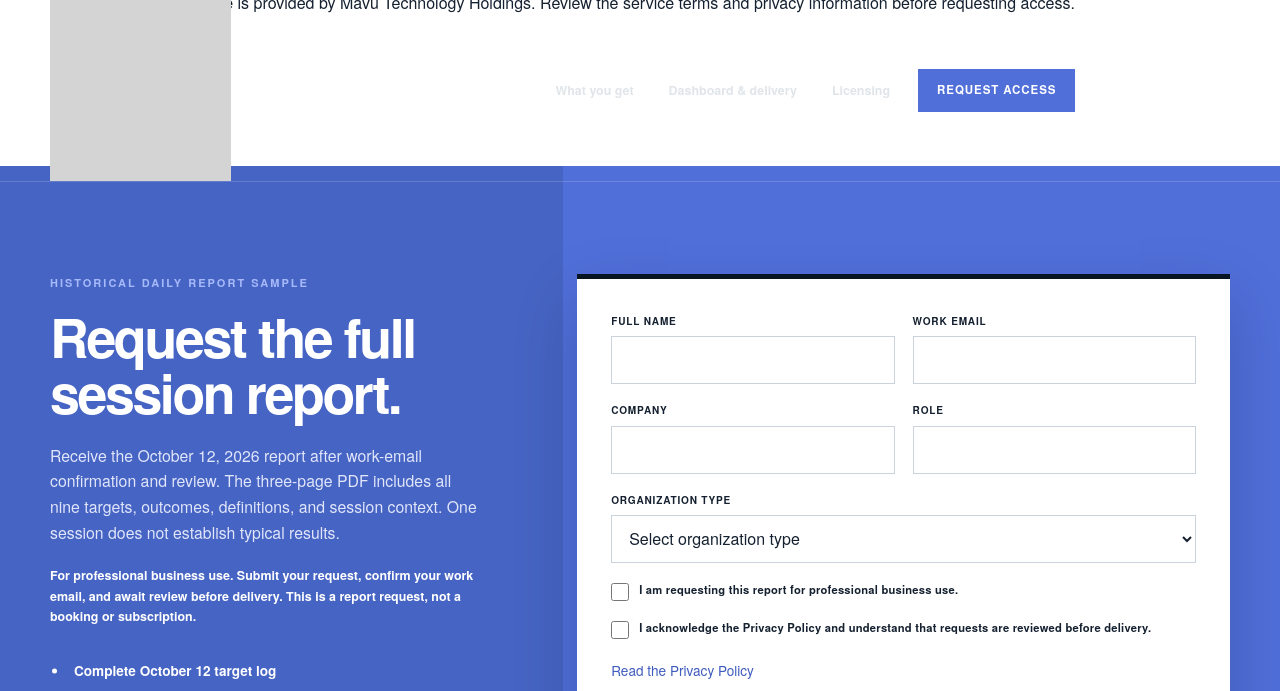
Test: public evaluation journey › does not invite a duplicate request after a network timeout
(page scrolled)
Type "Test Analyst" into the field labelled "Full name" at coordinates (753, 360), box [611,336,895,384]
Type "analyst@example.com" into the field labelled "Work email" at coordinates (1054, 360), box [913,336,1196,384]
Type "Example Desk" into the field labelled "Company" at coordinates (753, 450), box [611,426,895,474]
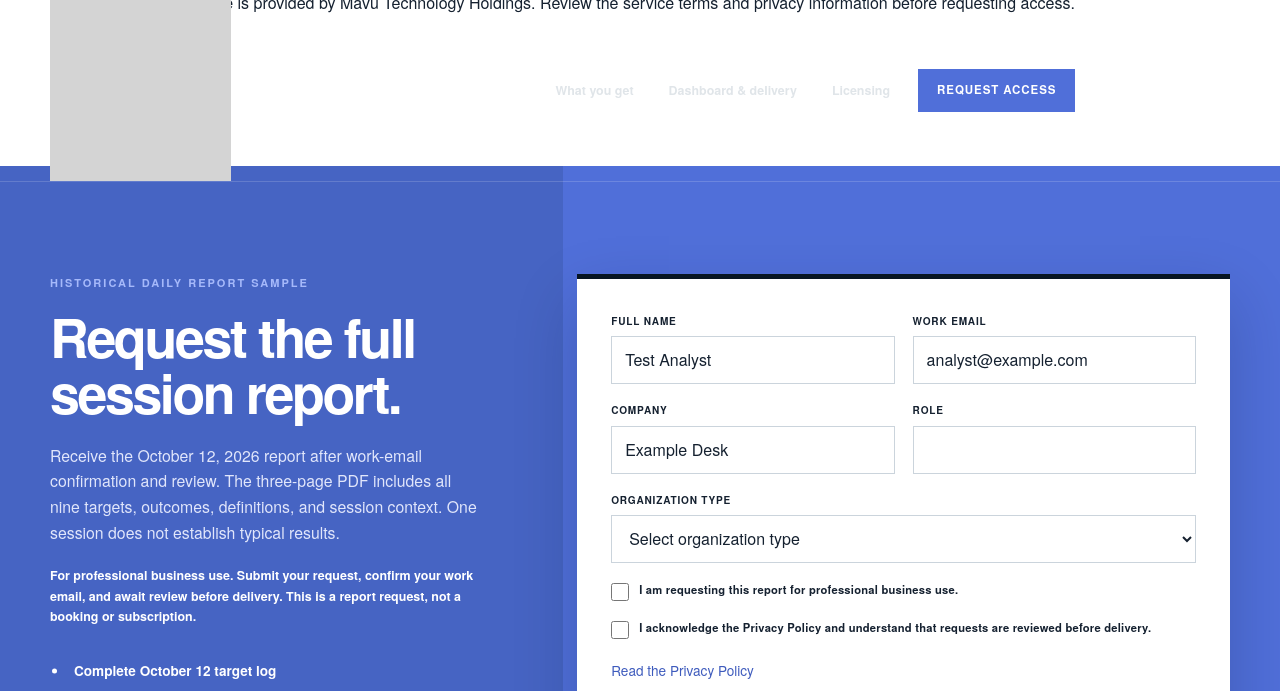
Type "Research Lead" into the field labelled "Role" at coordinates (1054, 450), box [913,426,1196,474]
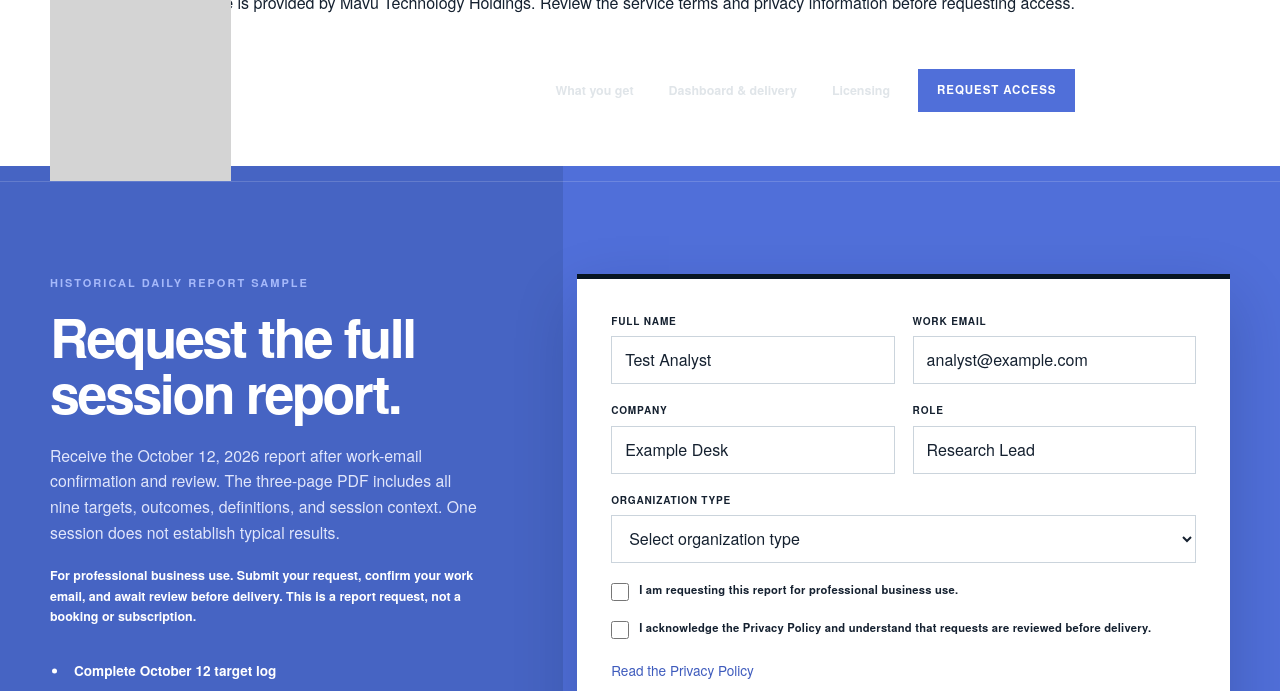
Select "Proprietary trading firm" in the dropdown labelled "Organization type" at coordinates (904, 539), box [611,515,1196,563]
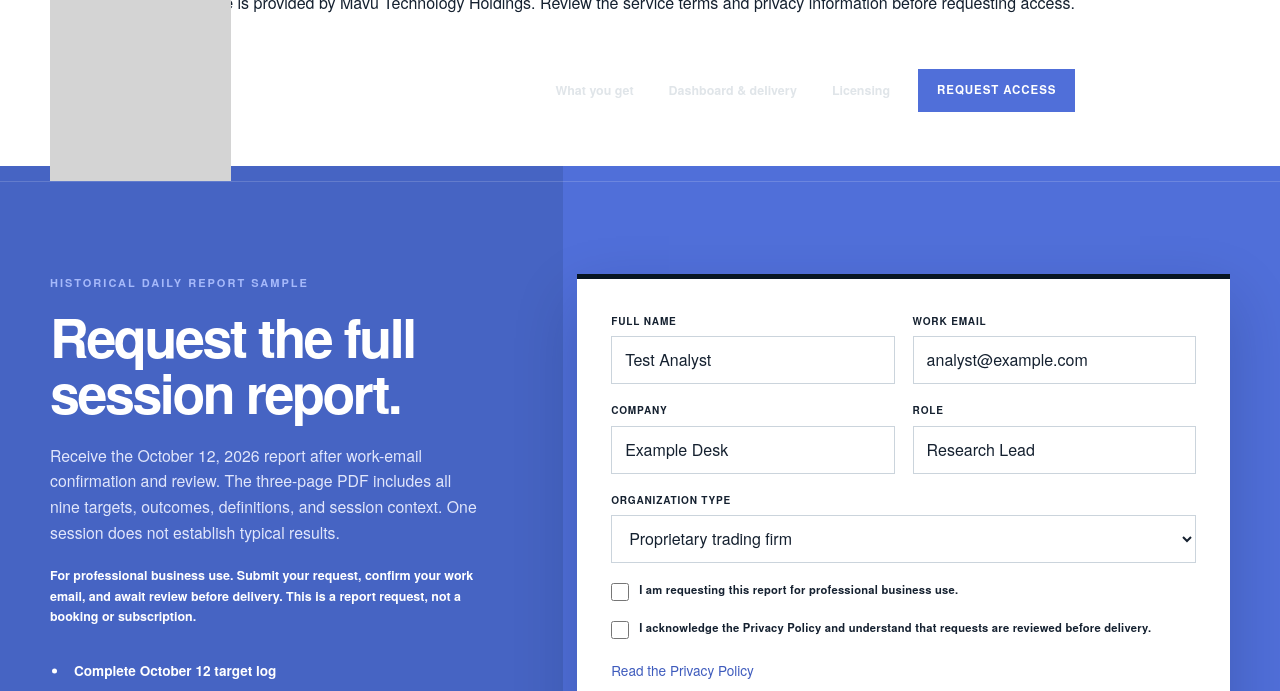
Click the checkbox labelled "I am requesting this report for professional business use." at coordinates (620, 592), box [611,583,629,601]
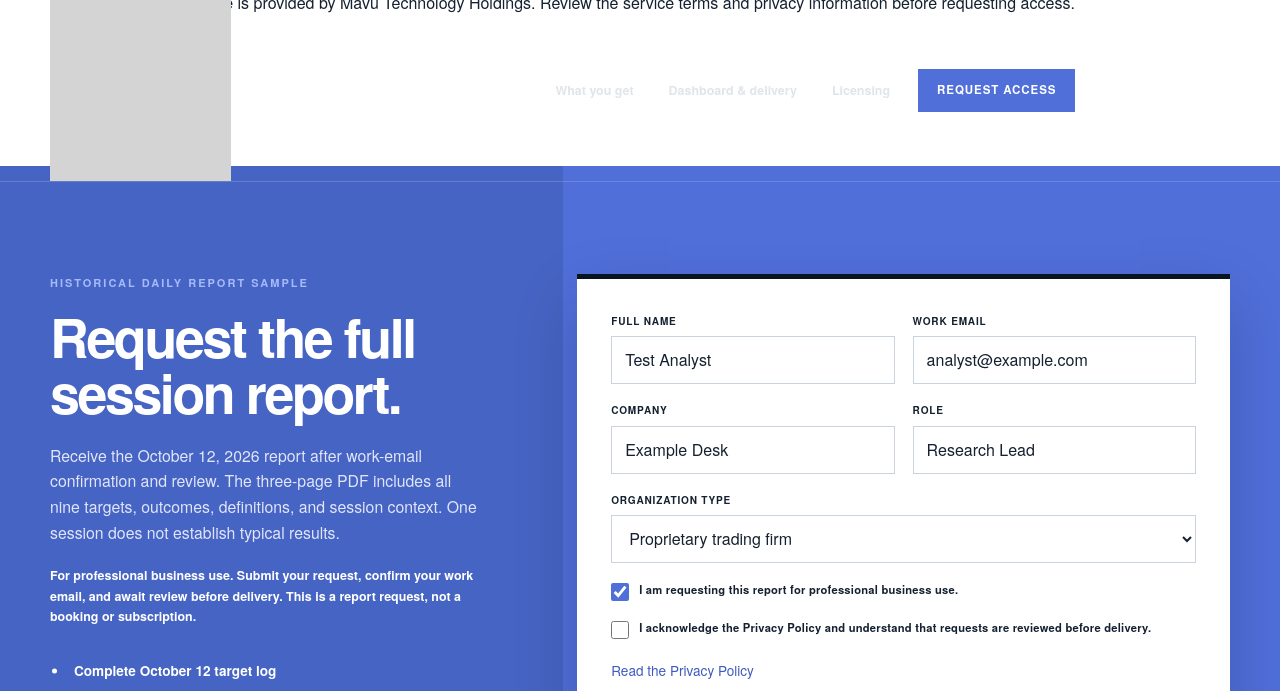
Click the checkbox labelled "I acknowledge the Privacy Policy" at coordinates (620, 630), box [611,621,629,639]
(page scrolled)
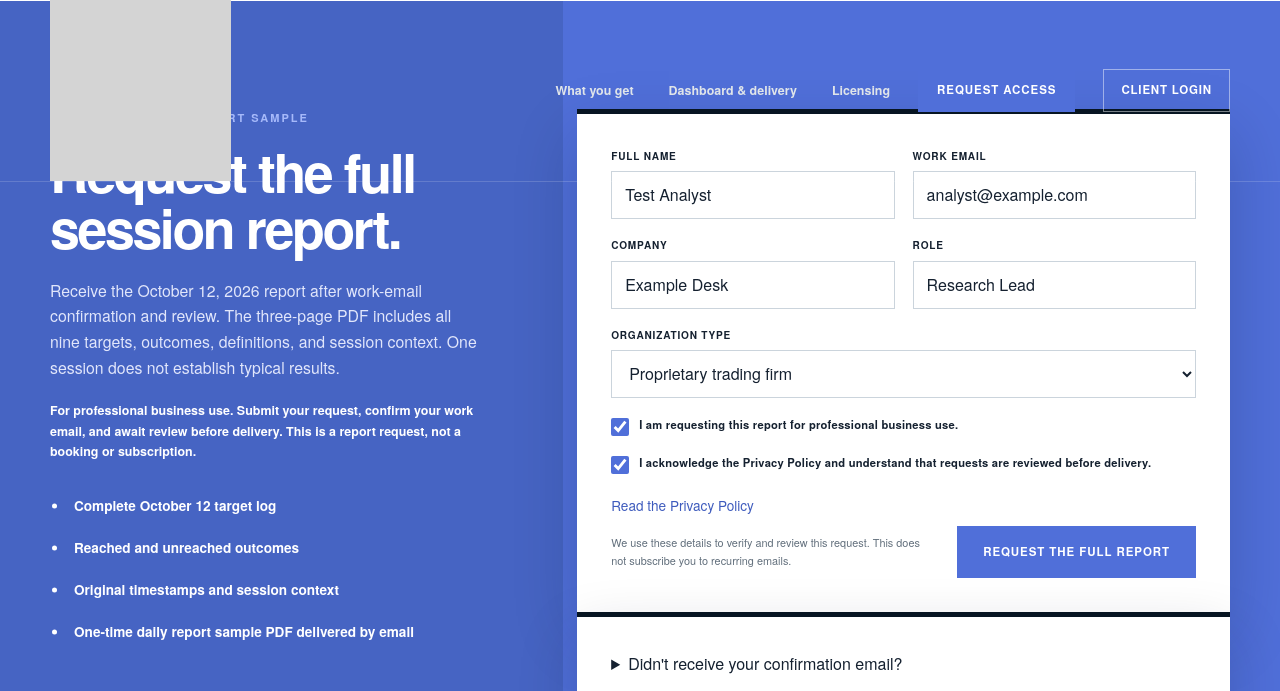
Submit the form, box [577,109,1230,612]
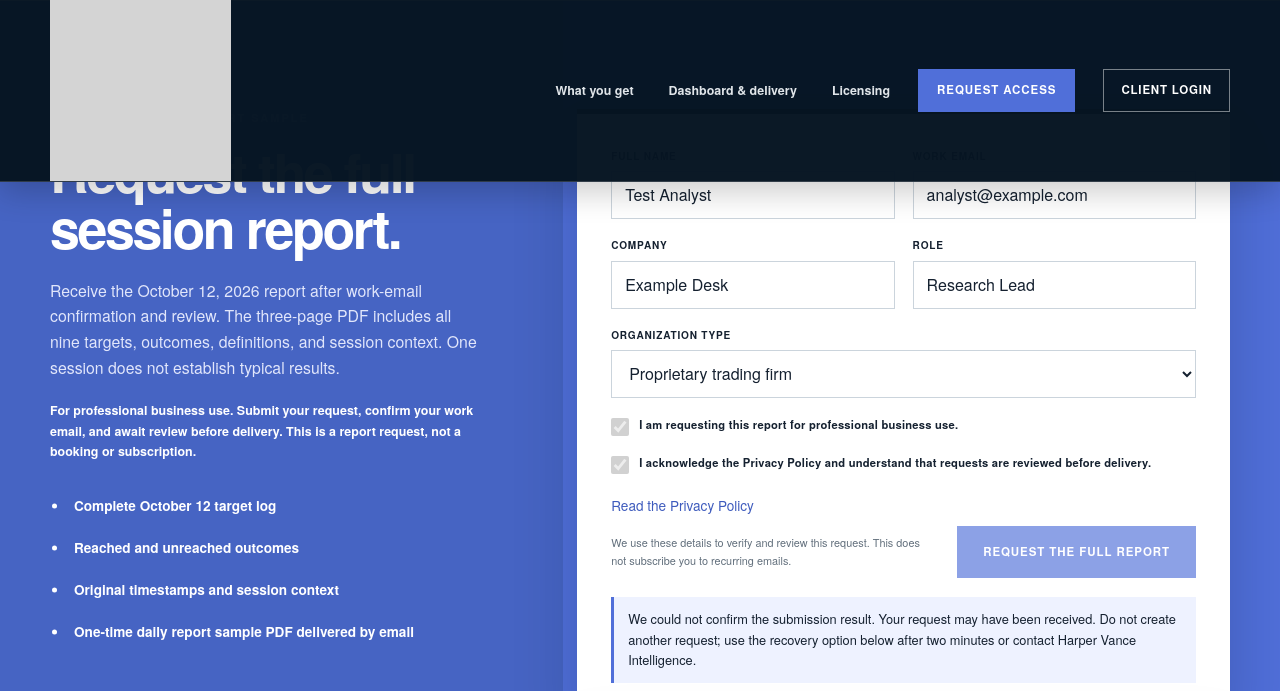
expect the button "Request the Full Report" is disabled: met, box [957,526,1196,578]
expect the message shows "may have been received": met, box [628,609,1176,669]
